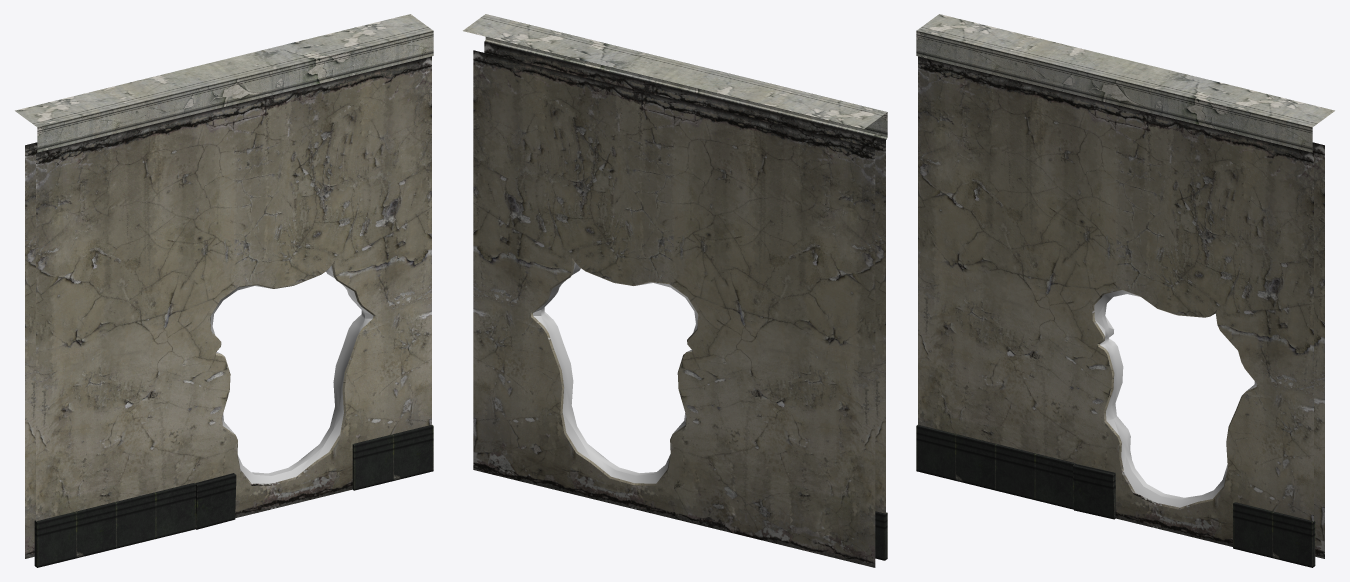
File: special_teaser_wall_hole.dae
The picture shows the model from 3 angles, left to right: view 1: azimuth 30°, elevation 25°; view 2: azimuth 150°, elevation 25°; view 3: azimuth 330°, elevation 25°; orthographic projection.
Parts seen in each view (by area): view 1: hole, trims, concrete; view 2: hole, trims, concrete; view 3: hole, trims, concrete.
Part boxes in pixels (x1,y1,x2,y2): hole: [25, 56, 431, 558]; trims: [15, 14, 433, 567]; concrete: [210, 265, 373, 483]; hole: [473, 42, 885, 567]; trims: [463, 14, 887, 560]; concrete: [533, 262, 697, 483]; hole: [918, 56, 1324, 558]; trims: [916, 14, 1334, 567]; concrete: [1094, 290, 1256, 507].
Bounding box in the file's own units: 4 × 4.25 × 0.4346.
